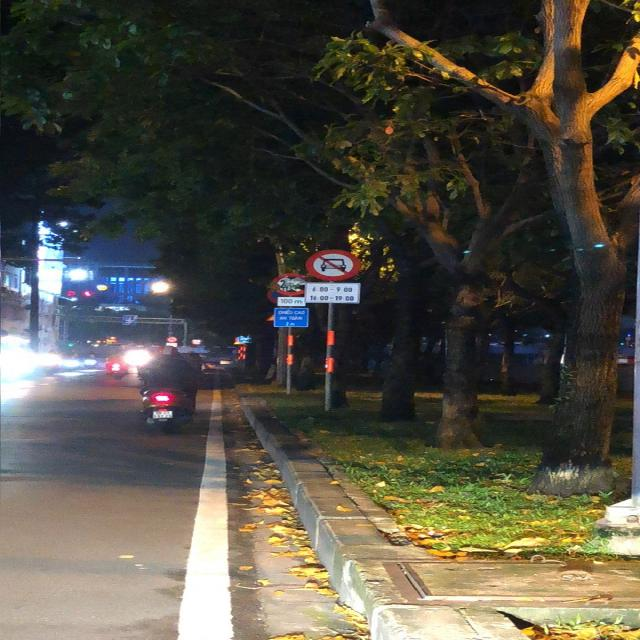Bien bao cam xe oto: (303, 248, 367, 282)
